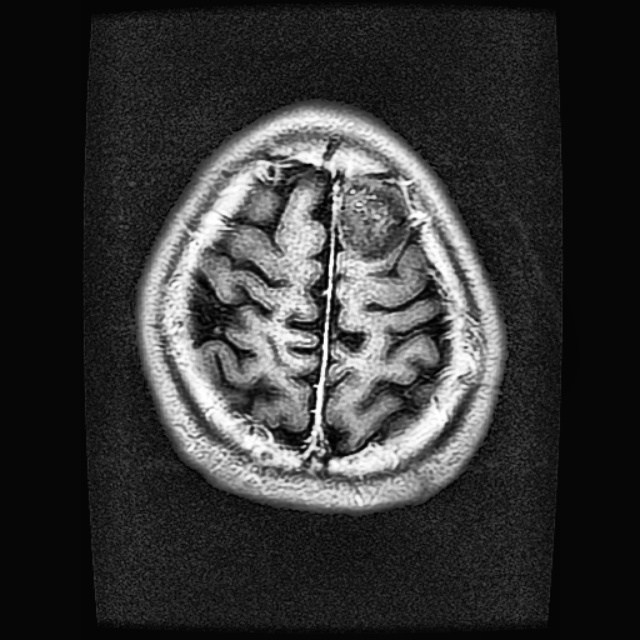Pituitary: (337, 177, 410, 260)
